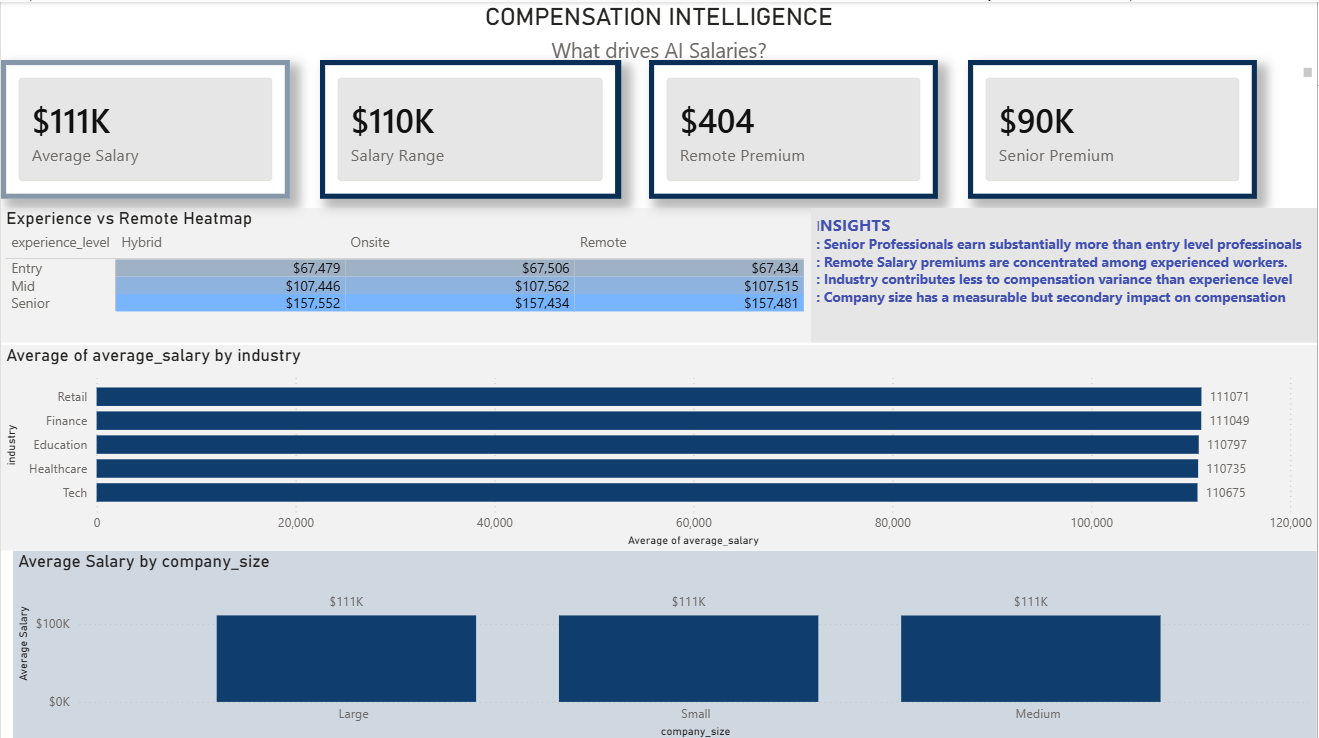

The dashboard page shown, as its layout file describes it:
{"tool":"powerbi","page":{"name":"Page 2","canvas":[1280,720],"ordinal":1},"visuals":[{"type":"textbox","title":"COMPENSATION INTELLIGENCE","box":[0,0,1280,77.8],"z":0},{"type":"cardVisual","fields":{"Data":["ai_jobs_cleaned.Average Salary"]},"box":[0,56.4,281.1,135.2],"z":1000},{"type":"cardVisual","fields":{"Data":["ai_jobs_cleaned.Salary Range"]},"box":[310.3,56.4,292.8,135.2],"z":2000},{"type":"cardVisual","fields":{"Data":["ai_jobs_cleaned.Remote Premium"]},"box":[630.3,56.4,281.1,135.2],"z":3000},{"type":"cardVisual","fields":{"Data":["ai_jobs_cleaned.Senior Premium"]},"box":[940.5,56.4,281.1,135.2],"z":4000},{"type":"pivotTable","title":"Experience vs Remote Heatmap","fields":{"Rows":["ai_jobs_cleaned.experience_level"],"Columns":["ai_jobs_cleaned.remote_type"],"Values":["ai_jobs_cleaned.Average Salary"]},"box":[0,200.4,787.8,131.3],"z":5000},{"type":"clusteredBarChart","fields":{"Y":["Avg(ai_jobs_cleaned.average_salary)"],"Category":["ai_jobs_cleaned.industry"]},"box":[0,333.6,1280,200.4],"z":6000},{"type":"columnChart","fields":{"Category":["ai_jobs_cleaned.company_size"],"Y":["ai_jobs_cleaned.Average Salary"]},"box":[11.7,534,1268.3,185.8],"z":7000},{"type":"textbox","box":[787.8,200.4,492.2,131.3],"z":8000}]}

Visuals, with their boxes in screenshot pixels (x1, y1, x2, y2), scaled from the page's 1280x720 canvas onto the 1319x738 screenshot:
"COMPENSATION INTELLIGENCE" textbox: 0/0/1318/80
cardVisual - ai_jobs_cleaned.Average Salary: 0/58/290/196
cardVisual - ai_jobs_cleaned.Salary Range: 320/58/621/196
cardVisual - ai_jobs_cleaned.Remote Premium: 650/58/939/196
cardVisual - ai_jobs_cleaned.Senior Premium: 969/58/1259/196
"Experience vs Remote Heatmap" pivotTable: 0/205/812/340
clusteredBarChart - Avg(ai_jobs_cleaned.average_salary) x ai_jobs_cleaned.industry: 0/342/1318/547
columnChart - ai_jobs_cleaned.company_size x ai_jobs_cleaned.Average Salary: 12/547/1318/737
textbox: 812/205/1318/340
